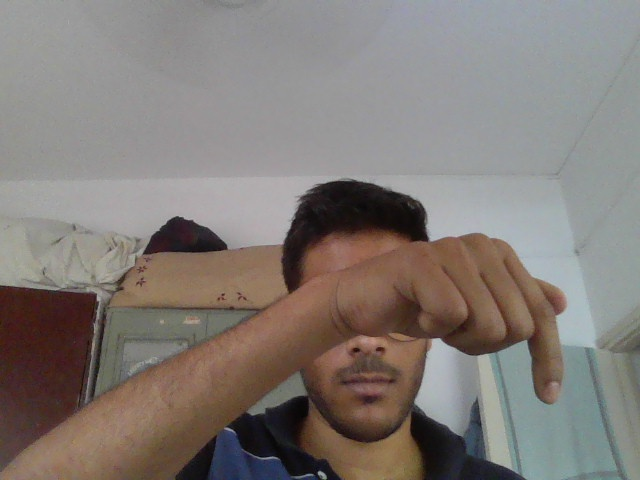yes: (329, 211, 579, 418)
